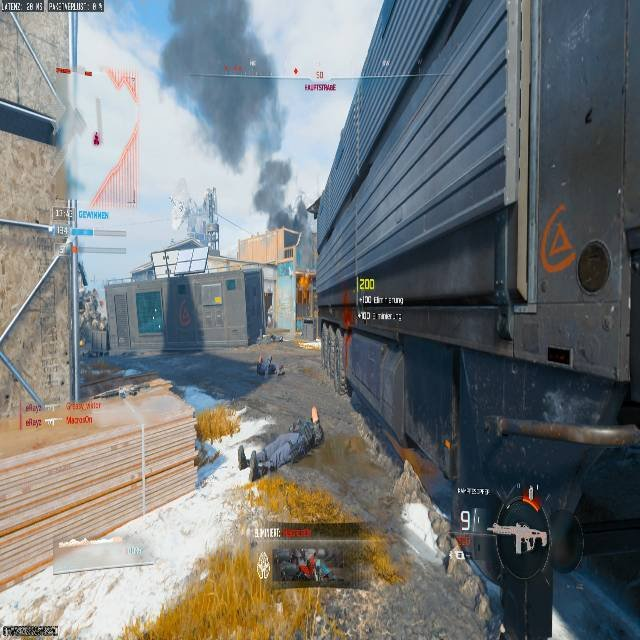player: (266, 306, 273, 328)
